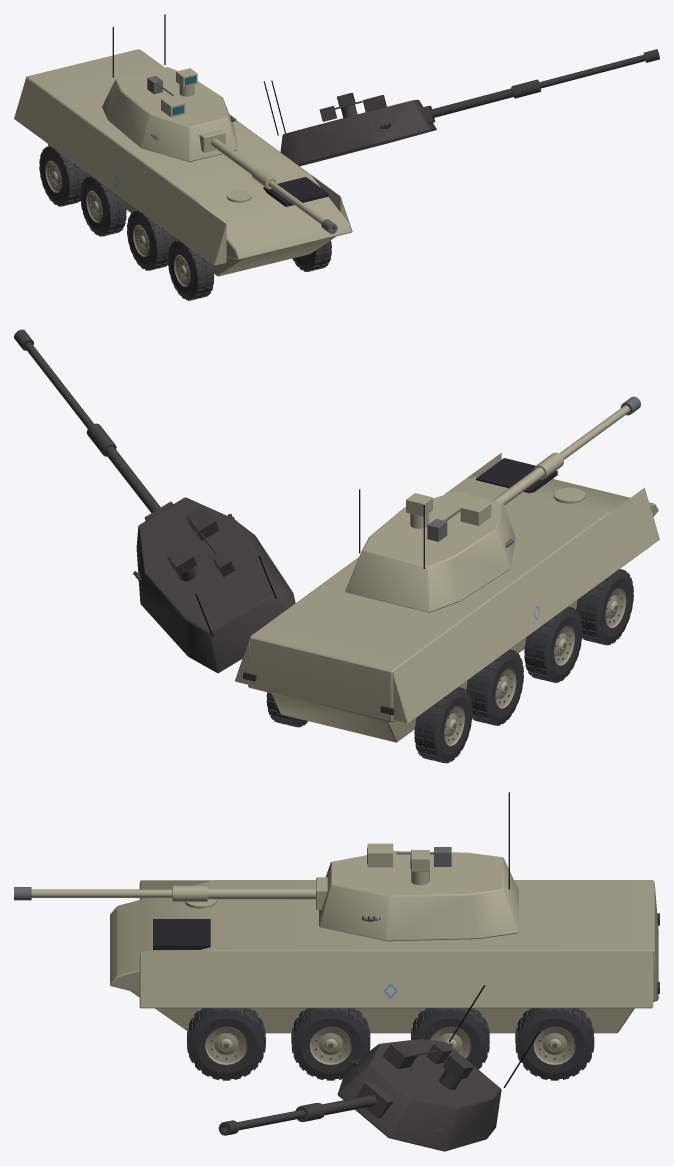
Rendered from reconVehicle__centauro_ii.glb.
The picture shows the model from 3 angles, top to bottom: view 1: azimuth 30°, elevation 25°; view 2: azimuth 150°, elevation 25°; view 3: azimuth 270°, elevation 25°; orthographic projection. The views are drawn at different scales.
Visible parts, largest first — view 1: Hull_Mesh, Turret_Mesh, Wreck, Wheel_L1_Mesh, Wheel_L3_Mesh, Wheel_L0_Mesh, Wheel_L2_Mesh, Gun_Mesh, Wheel_R3_Mesh; view 2: Hull_Mesh, Wreck, Turret_Mesh, Wheel_L0_Mesh, Wheel_L2_Mesh, Wheel_L1_Mesh, Wheel_L3_Mesh, Gun_Mesh; view 3: Hull_Mesh, Turret_Mesh, Wreck, Wheel_R3_Mesh, Wheel_R0_Mesh, Wheel_R2_Mesh, Gun_Mesh, Wheel_R1_Mesh.
Boxes of the visible parts, box(x1,y1,x2,y2) form: Hull_Mesh: box(14, 49, 352, 276); Turret_Mesh: box(102, 14, 237, 161); Wreck: box(47, 49, 659, 297); Wheel_L1_Mesh: box(80, 175, 126, 236); Wheel_L3_Mesh: box(168, 240, 214, 300); Wheel_L0_Mesh: box(39, 145, 85, 206); Wheel_L2_Mesh: box(127, 210, 172, 270); Gun_Mesh: box(199, 129, 337, 233); Wheel_R3_Mesh: box(292, 240, 331, 271); Hull_Mesh: box(235, 452, 659, 742); Wreck: box(14, 329, 621, 762); Turret_Mesh: box(345, 489, 515, 612); Wheel_L0_Mesh: box(414, 687, 472, 763); Wheel_L2_Mesh: box(524, 606, 582, 682); Wheel_L1_Mesh: box(466, 649, 523, 725); Wheel_L3_Mesh: box(576, 569, 633, 645); Gun_Mesh: box(493, 396, 640, 504); Hull_Mesh: box(110, 880, 659, 1033); Turret_Mesh: box(319, 792, 518, 941); Wreck: box(212, 985, 568, 1151); Wheel_R3_Mesh: box(187, 1008, 265, 1080); Wheel_R0_Mesh: box(515, 1008, 594, 1080); Wheel_R2_Mesh: box(291, 1008, 370, 1080); Gun_Mesh: box(14, 877, 327, 909); Wheel_R1_Mesh: box(411, 1008, 489, 1069).
Size of what is drawn, in the model's own units: 10.43 by 3.75 by 9.52.
